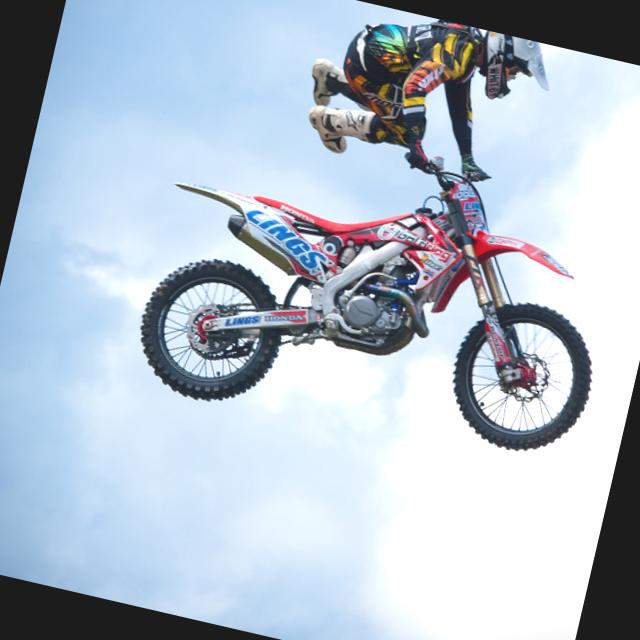Vehicle: (127, 112, 634, 469)
